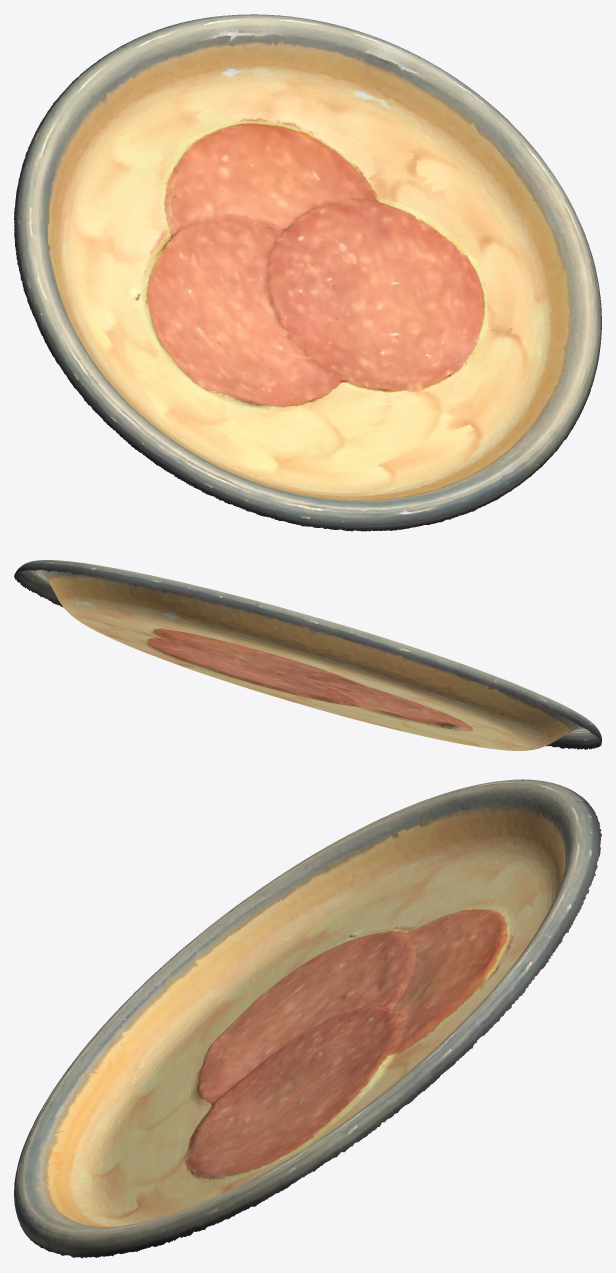
The model's file is Salami.fbx.
The picture shows the model from 3 angles, top to bottom: view 1: azimuth 30°, elevation 25°; view 2: azimuth 150°, elevation 25°; view 3: azimuth 270°, elevation 25°; orthographic projection. The views are drawn at different scales.
Visible parts, largest first — view 1: Salami_tex_high; view 2: Salami_tex_high; view 3: Salami_tex_high.
Boxes of the visible parts, bbox=[...] form: Salami_tex_high: bbox=[14, 14, 601, 531]; Salami_tex_high: bbox=[14, 560, 601, 750]; Salami_tex_high: bbox=[14, 779, 601, 1258].
Bounding box in the file's own units: 19.81 × 11.39 × 16.42.
